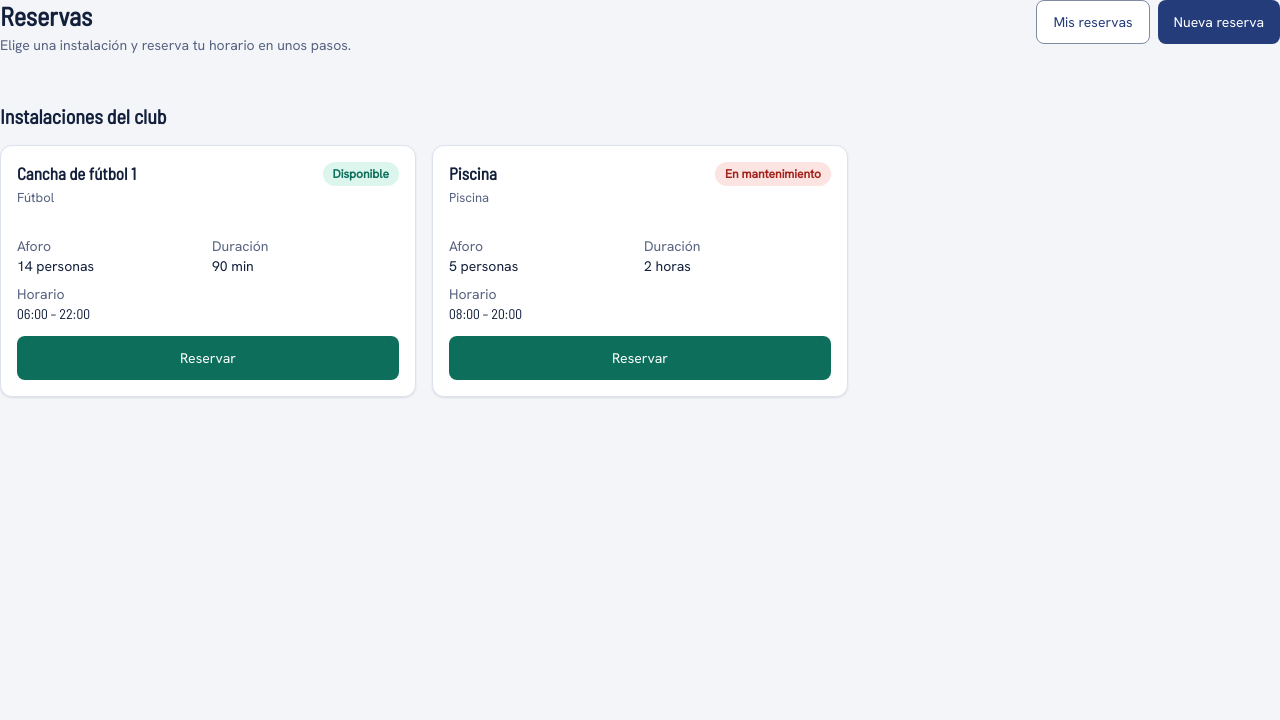
Scenario: ReservationsPage — catálogo (US-028, US-073) › al pulsar "Reservar" abre el asistente en el paso 2 y consulta la disponibilidad del día
Check: the heading "Cancha de fútbol 1" is shown, box [17,162,136,185]
Click the button with aria-label "Reservar Cancha de fútbol 1" at (208,358), box [17,336,399,380]
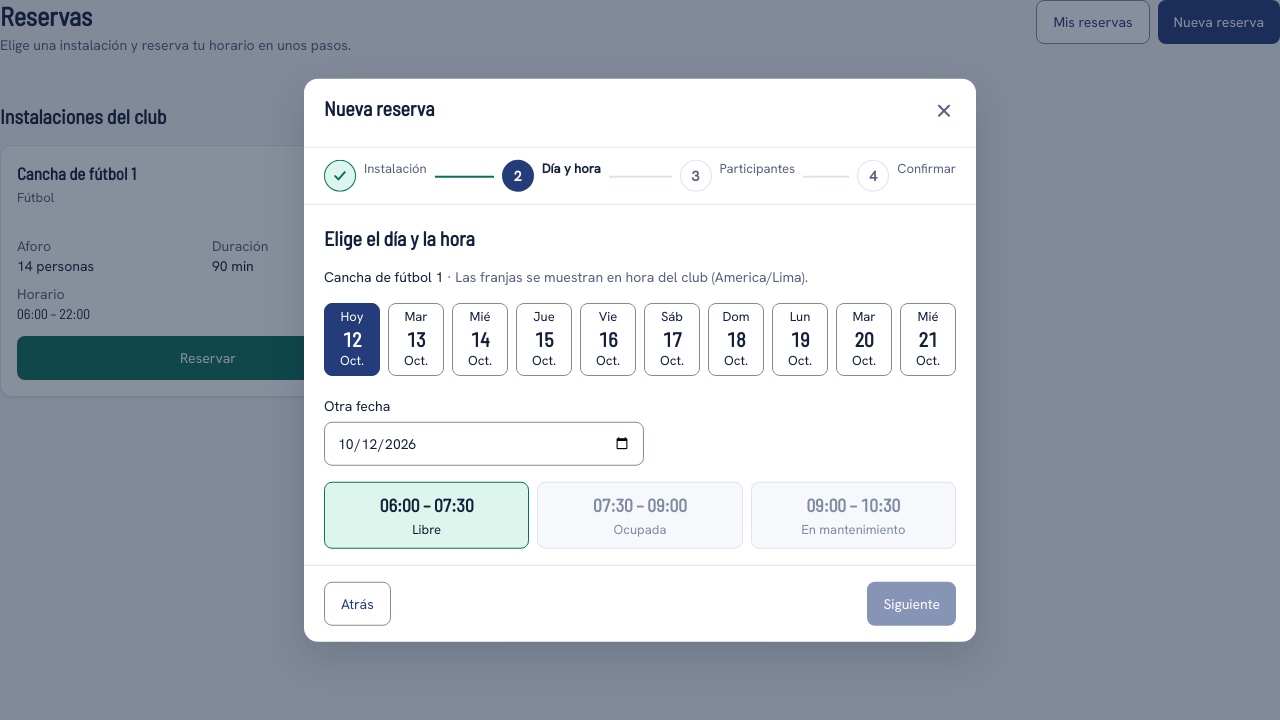
Check: the heading "Elige el día y la hora" is shown, box [324,226,475,250]
Check: the button with aria-label "franja 06:00 – 07:30, disponible" is shown, box [324,481,529,548]
